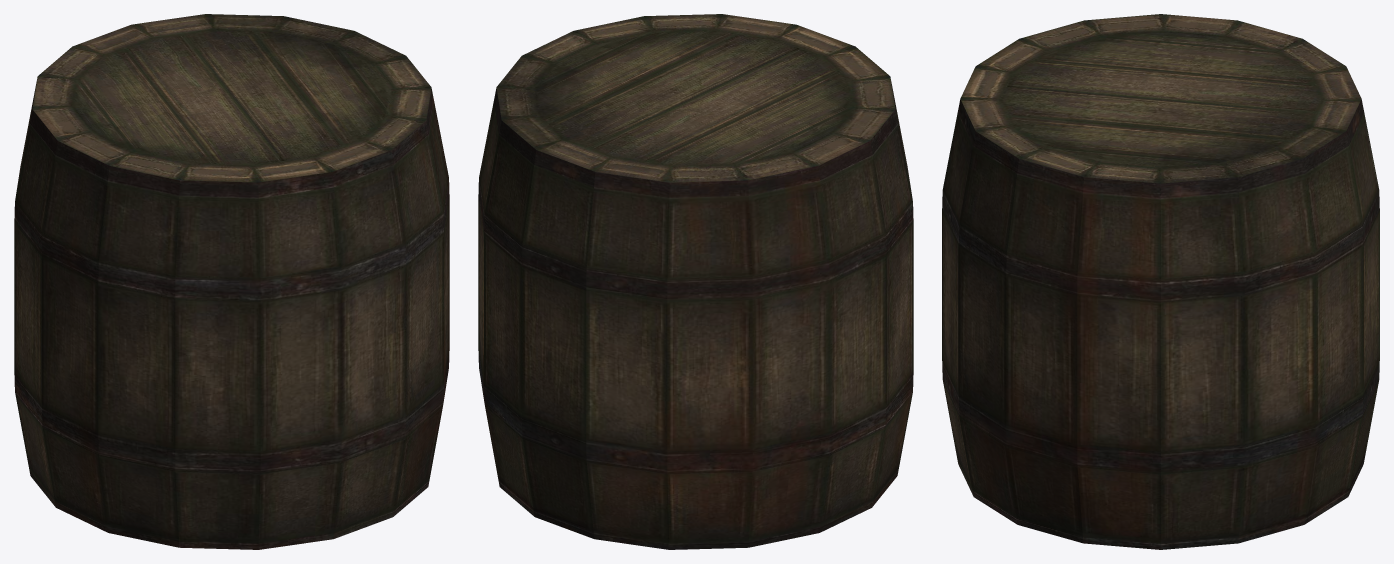
Rendered from barril_v2.fbx.
3 renders of one model, left to right at view 1: azimuth 30°, elevation 25°; view 2: azimuth 150°, elevation 25°; view 3: azimuth 270°, elevation 25°, orthographic.
Visible parts, largest first — view 1: Cylinder; view 2: Cylinder; view 3: Cylinder.
Part boxes in pixels (x1,y1,x2,y2): Cylinder: [14, 14, 449, 549]; Cylinder: [478, 14, 913, 549]; Cylinder: [942, 14, 1379, 549].
Bounding box in the file's own units: 263 × 242 × 263.
1 material, 1 textured.
